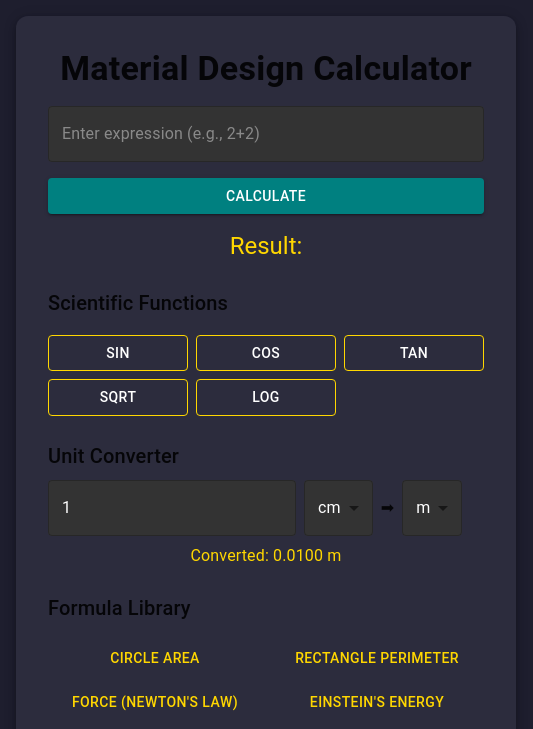
Test: performs addition correctly
Step 1. Type "2+3" into the field with placeholder "Enter expression (e.g., 2+2)" → (266, 134), box [48,106,484,162]
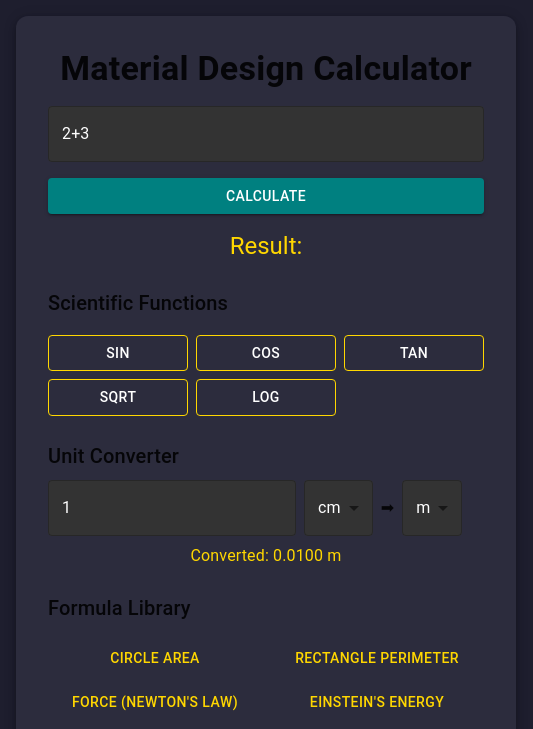
Step 2. Click the button "Calculate" → (266, 196), box [48,178,484,214]
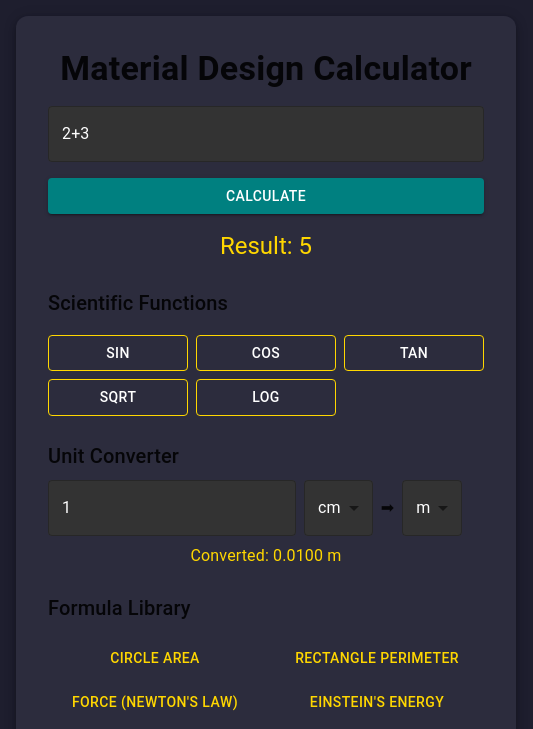
Expected: the heading "Result: 5" is shown, [220,232,312,260]
